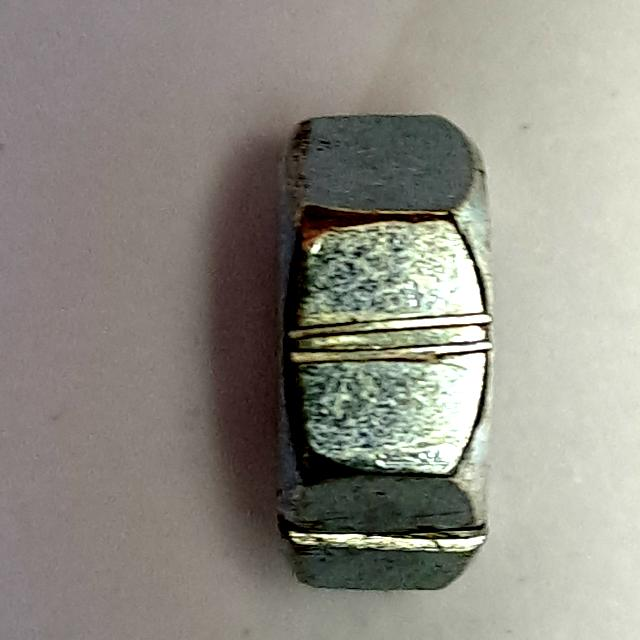Side_Scratches: (254, 100, 517, 612)
